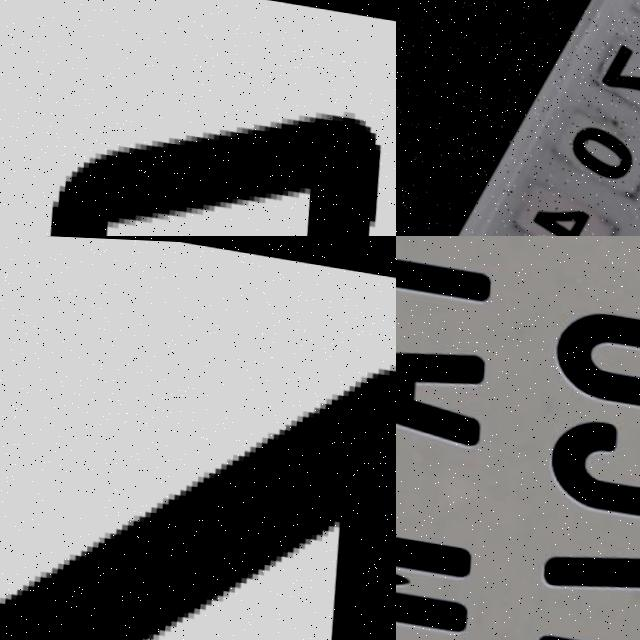0: (530, 93, 640, 198)
3: (538, 405, 640, 536)
4: (526, 518, 640, 640), (495, 166, 615, 236)
7: (569, 18, 640, 127)
8: (545, 296, 640, 430)
A: (0, 18, 396, 236), (396, 311, 486, 444)
M: (396, 504, 465, 634)
Y: (396, 236, 499, 335)
Z: (0, 258, 396, 640)
